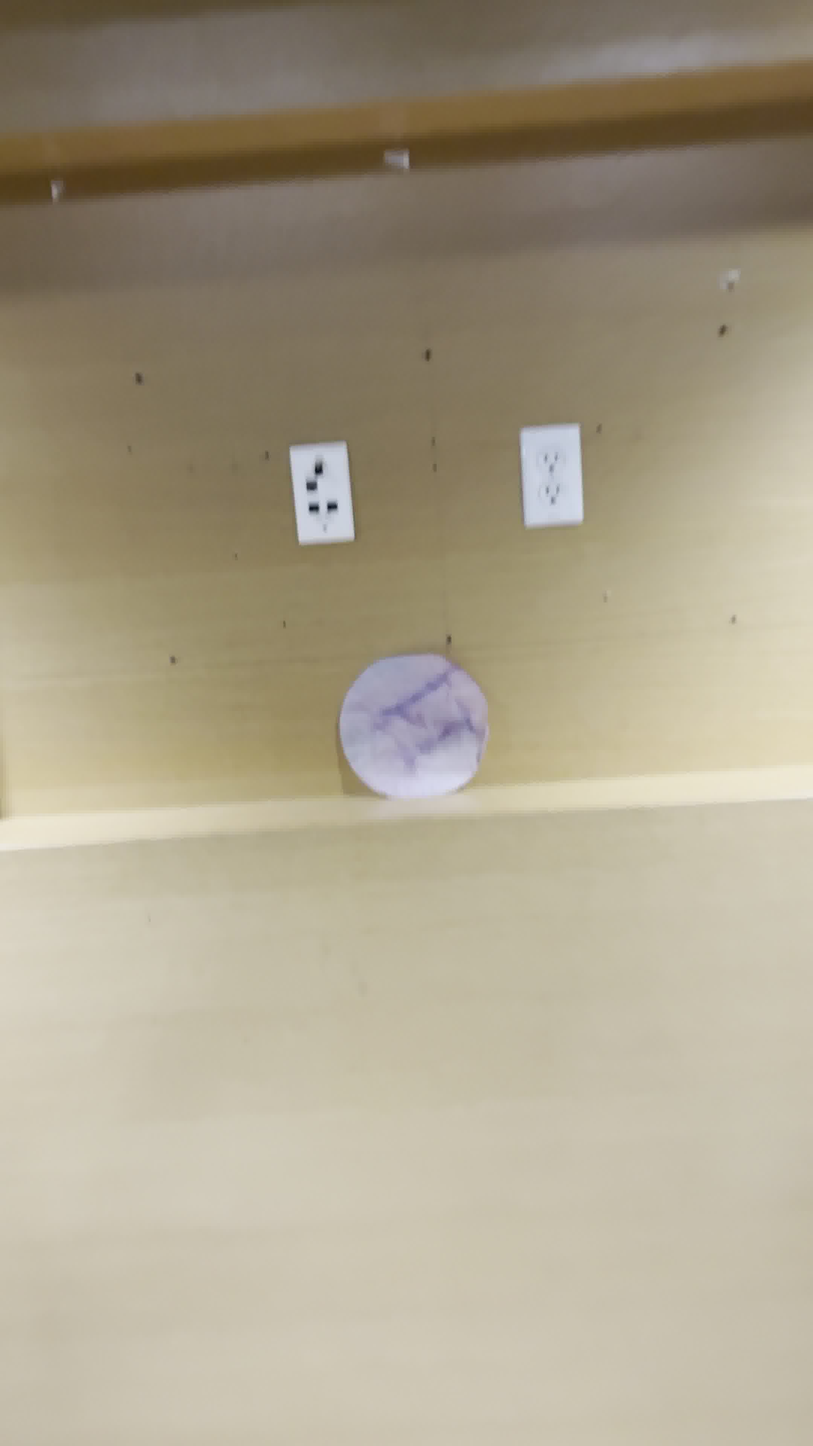Target: (339, 650, 490, 802)
